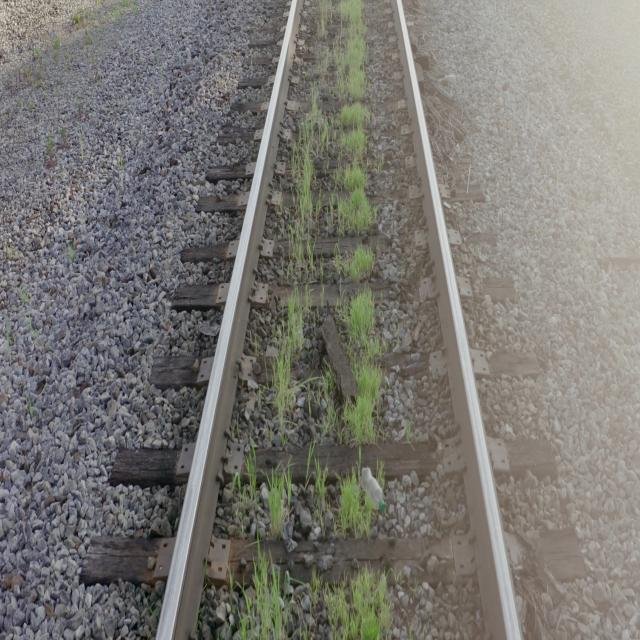Plant: (290, 0, 374, 264), (324, 289, 381, 447), (324, 567, 390, 640), (321, 569, 390, 638), (240, 553, 294, 638), (274, 300, 308, 427), (329, 471, 371, 538), (336, 247, 376, 282), (269, 476, 291, 536), (312, 471, 329, 520)
